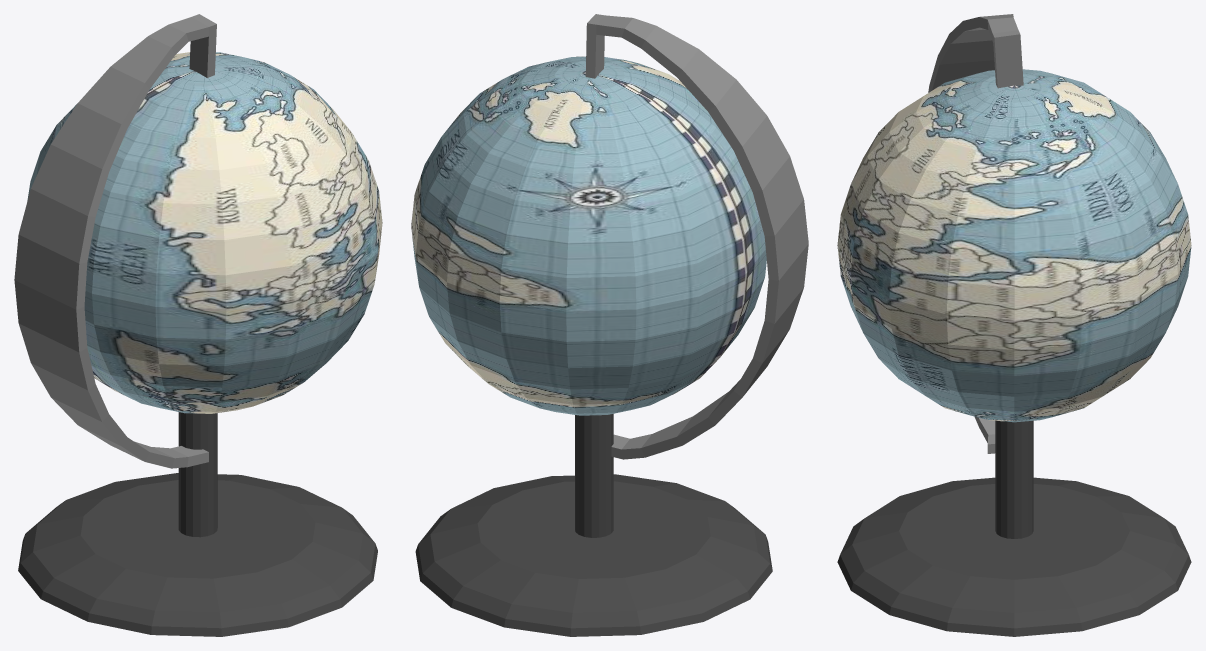
File: Prop_Biblioteca_globoTerraqueo.fbx
3 views of the same model, side by side, from view 1: azimuth 30°, elevation 25°; view 2: azimuth 150°, elevation 25°; view 3: azimuth 270°, elevation 25° (orthographic). The views are drawn at different scales.
Parts seen in each view (by area): view 1: Globo terraqueo; view 2: Globo terraqueo; view 3: Globo terraqueo.
Boxes of the visible parts, x1,y1,x2,y2 form: Globo terraqueo: (14, 14, 382, 636); Globo terraqueo: (411, 14, 808, 636); Globo terraqueo: (837, 14, 1191, 636).
Bounding box in the file's own units: 220 × 331 × 200.
Materials: 3 (1 with a texture image).
